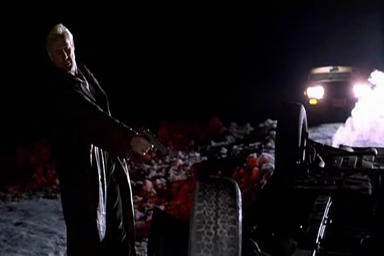face: (51, 41, 75, 71)
mls: (1, 1, 384, 256)
person: (43, 23, 169, 256)
